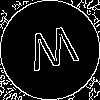W: (25, 25, 83, 81)
